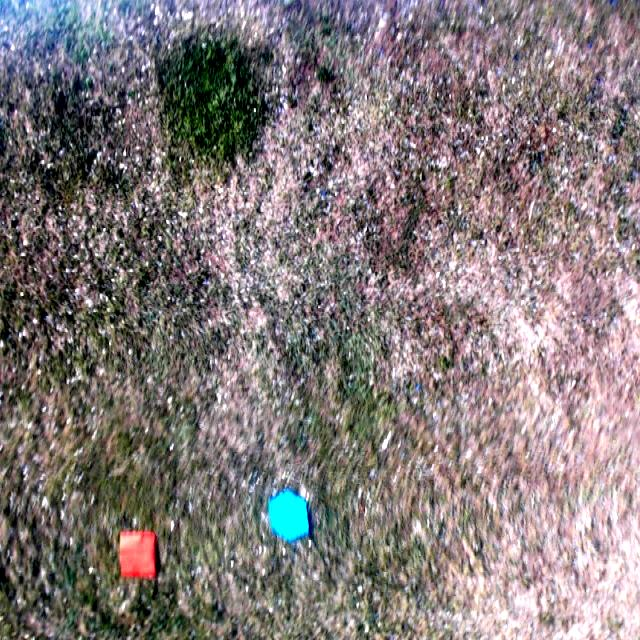blue_hexagon: (267, 488, 310, 544)
red_square: (117, 531, 157, 577)
